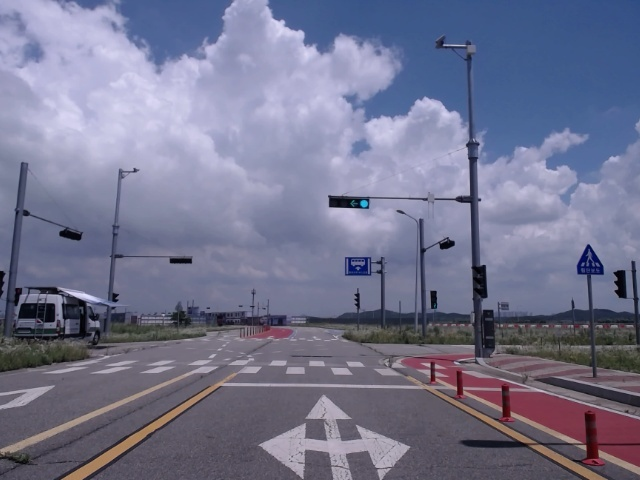all_green_4: (326, 193, 369, 208)
